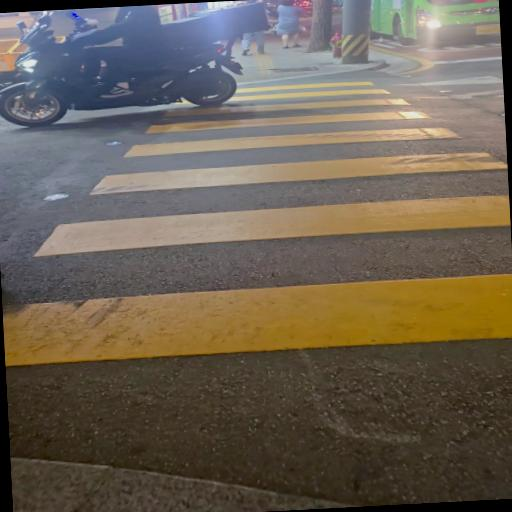yellow-crosswalk: (0, 65, 512, 391)
